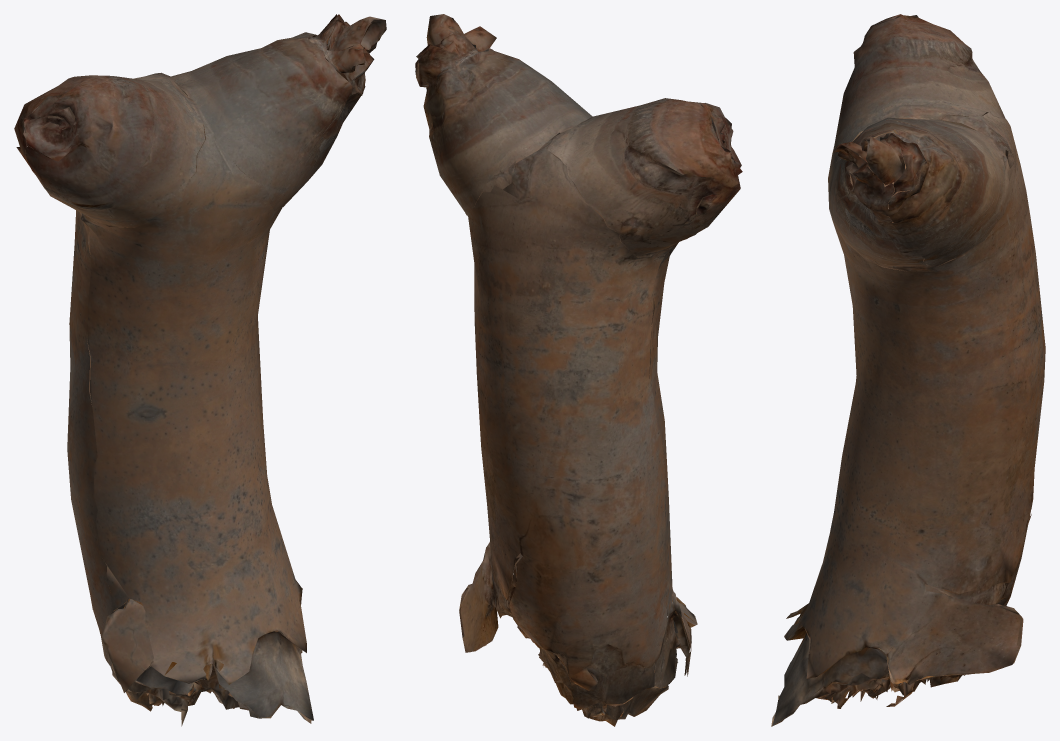
The model's file is dead_quiver_branch_02.glb.
3 views of the same model, side by side, from view 1: azimuth 30°, elevation 25°; view 2: azimuth 150°, elevation 25°; view 3: azimuth 270°, elevation 25° (orthographic).
Visible parts, largest first — view 1: model; view 2: model; view 3: model.
Part boxes in pixels (x1,y1,x2,y2): model: [14, 14, 386, 726]; model: [415, 14, 742, 726]; model: [771, 14, 1045, 726].
Bounding box in the file's own units: 0.2857 × 0.527 × 0.2006.
Materials: 1 (1 with a texture image).
